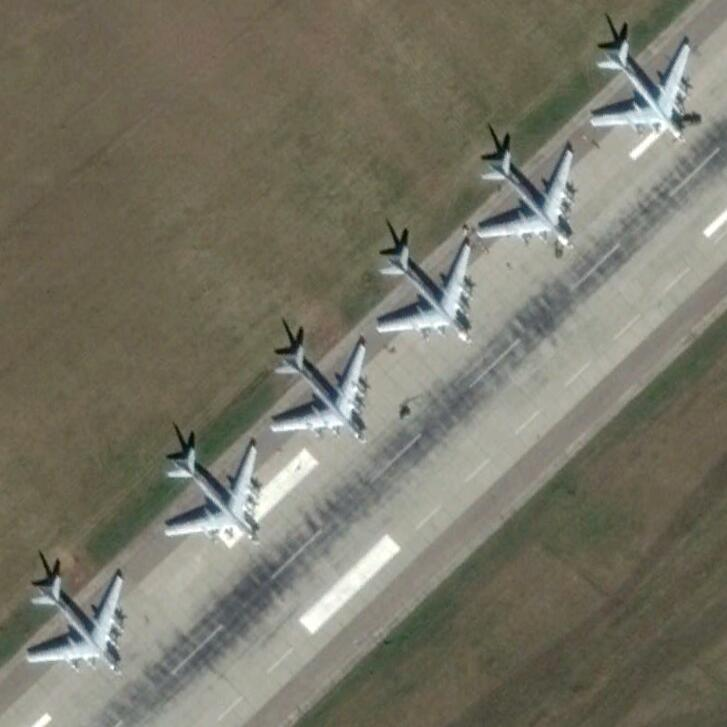A17: (473, 143, 578, 256), (586, 39, 691, 145), (162, 439, 262, 549), (267, 339, 369, 445), (25, 571, 125, 675), (374, 240, 473, 345)
